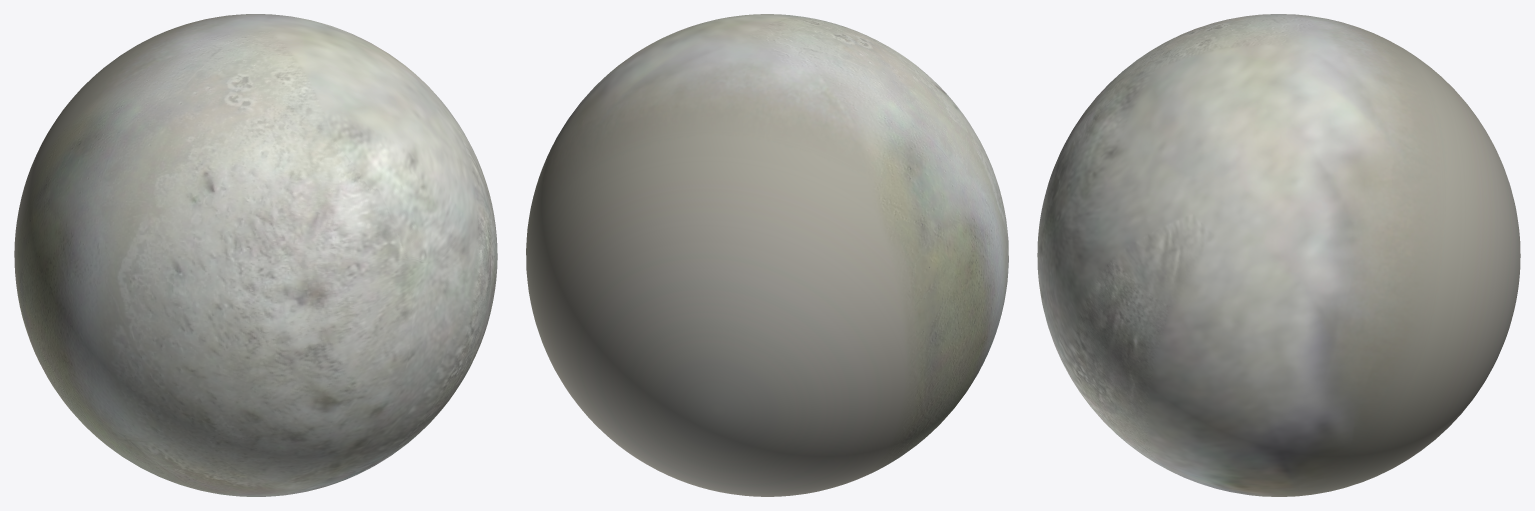
3 renders of one model, left to right at view 1: azimuth 30°, elevation 25°; view 2: azimuth 150°, elevation 25°; view 3: azimuth 270°, elevation 25°, orthographic.
Visible parts, largest first — view 1: Esfera; view 2: Esfera; view 3: Esfera.
Boxes of the visible parts, left/top/right/bottom form: Esfera: left=14, top=14, right=497, bottom=496; Esfera: left=526, top=14, right=1008, bottom=496; Esfera: left=1037, top=14, right=1520, bottom=496.
Size of the model in its own units: 1999 by 2000 by 1999.
1 material, 1 textured.
